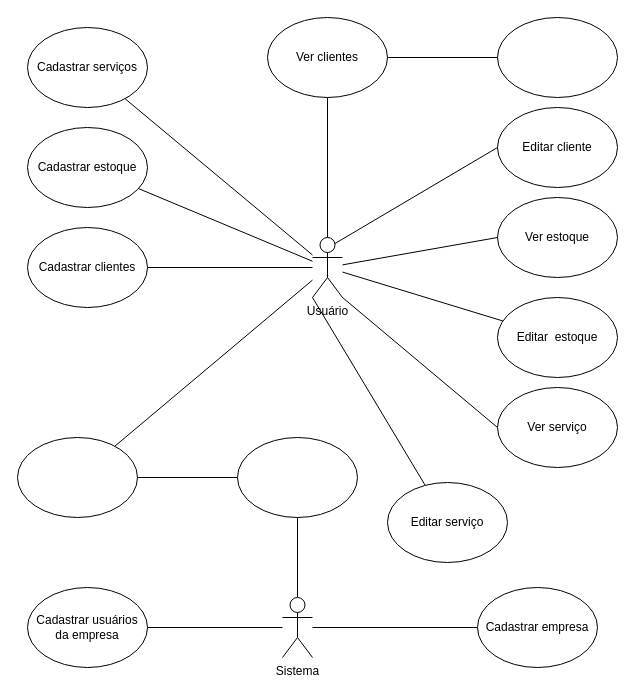
The diagram is 635 pixels wide and 696 high, and some of its shapes have lost their labels. The centre of each missing label's shape, as x and y in pixels:
"Criar atendimento" belongs at (x=77, y=477).
"Gerar nota de atendimento" belongs at (x=297, y=477).
"Ver histórico de atendimento ao cliente" belongs at (x=557, y=57).
